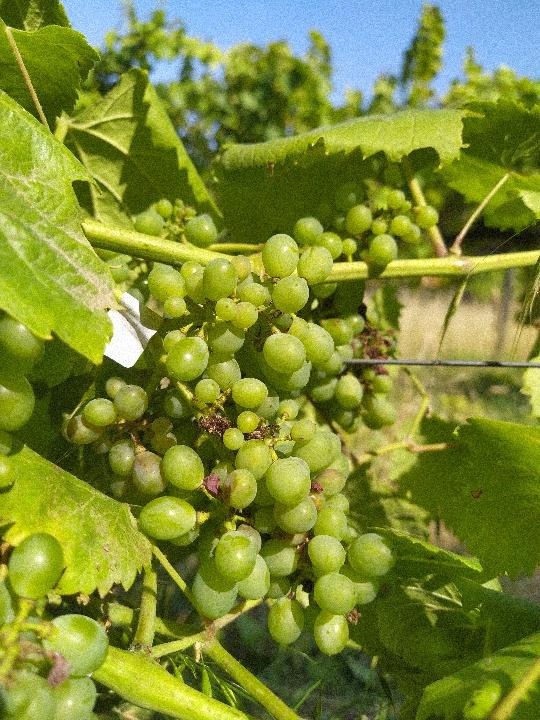grape: (56, 229, 400, 654)
